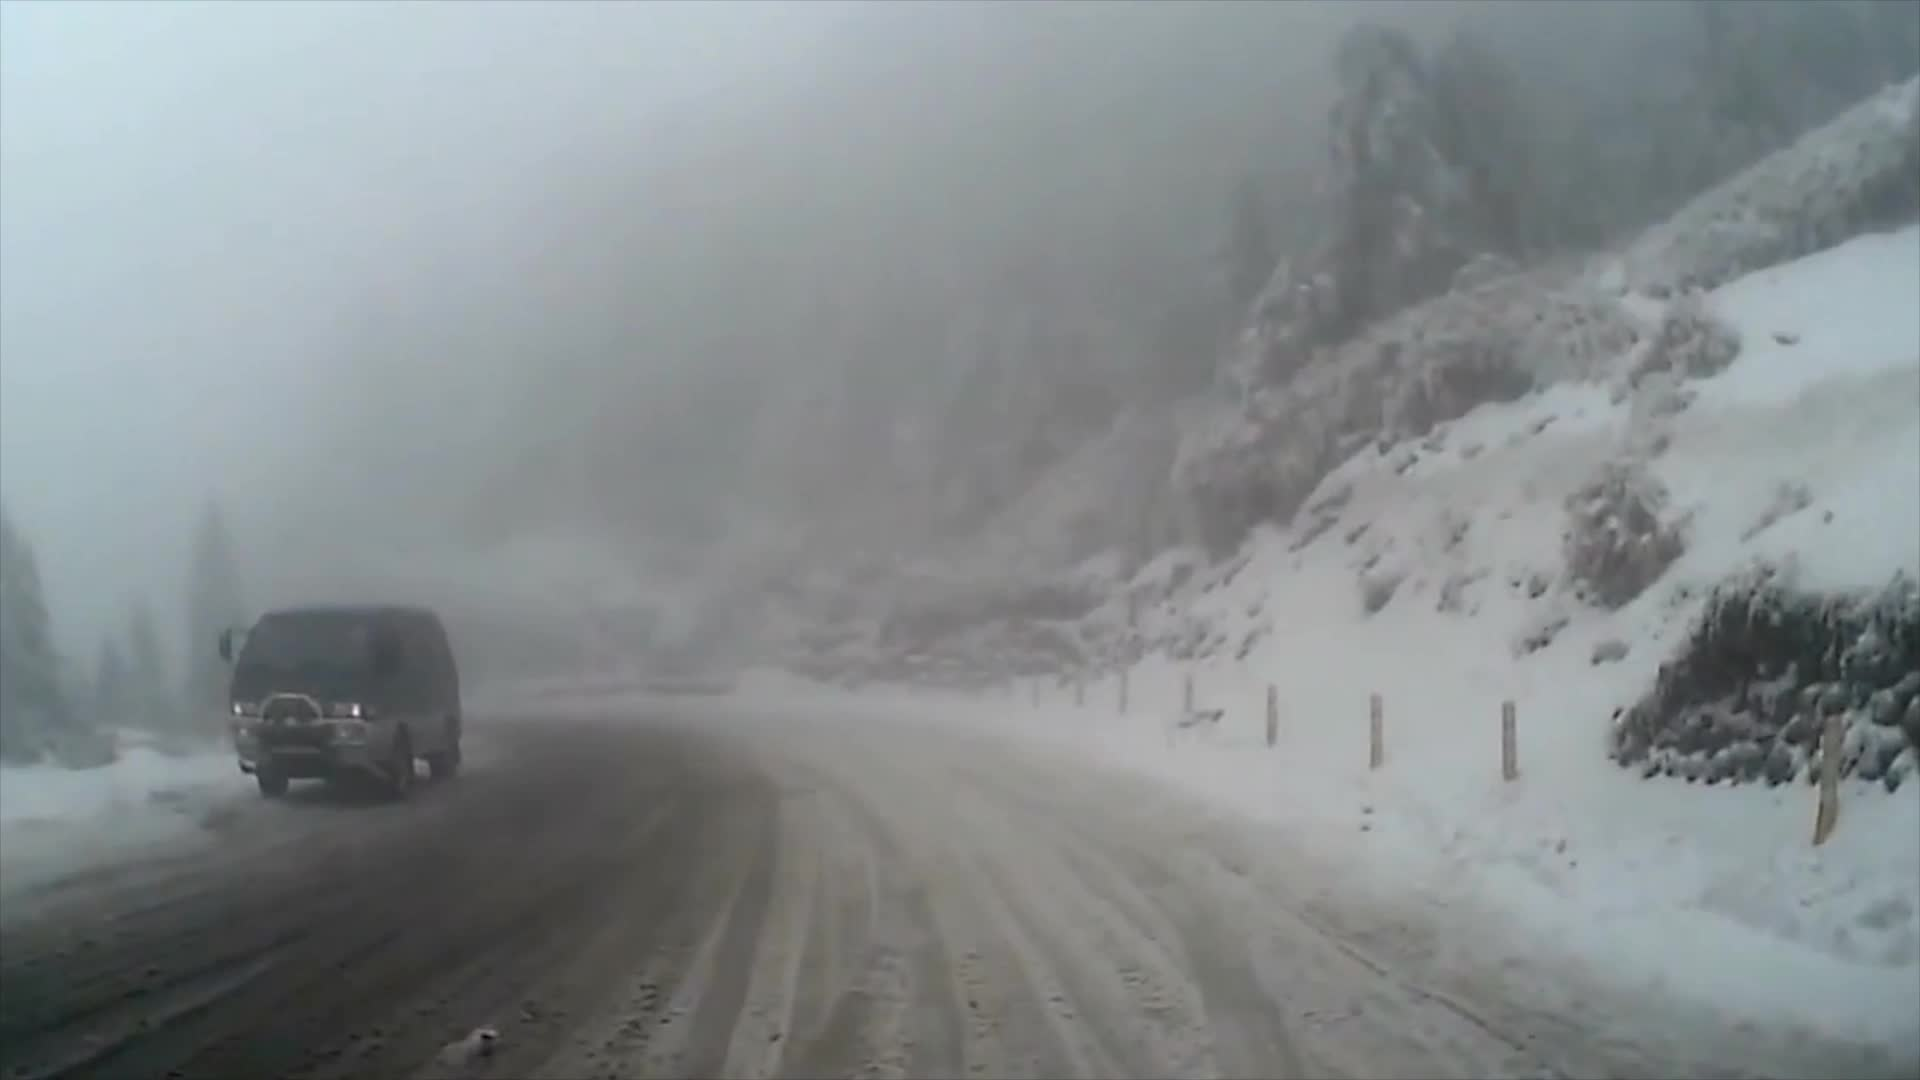vehicle: (212, 603, 460, 804)
